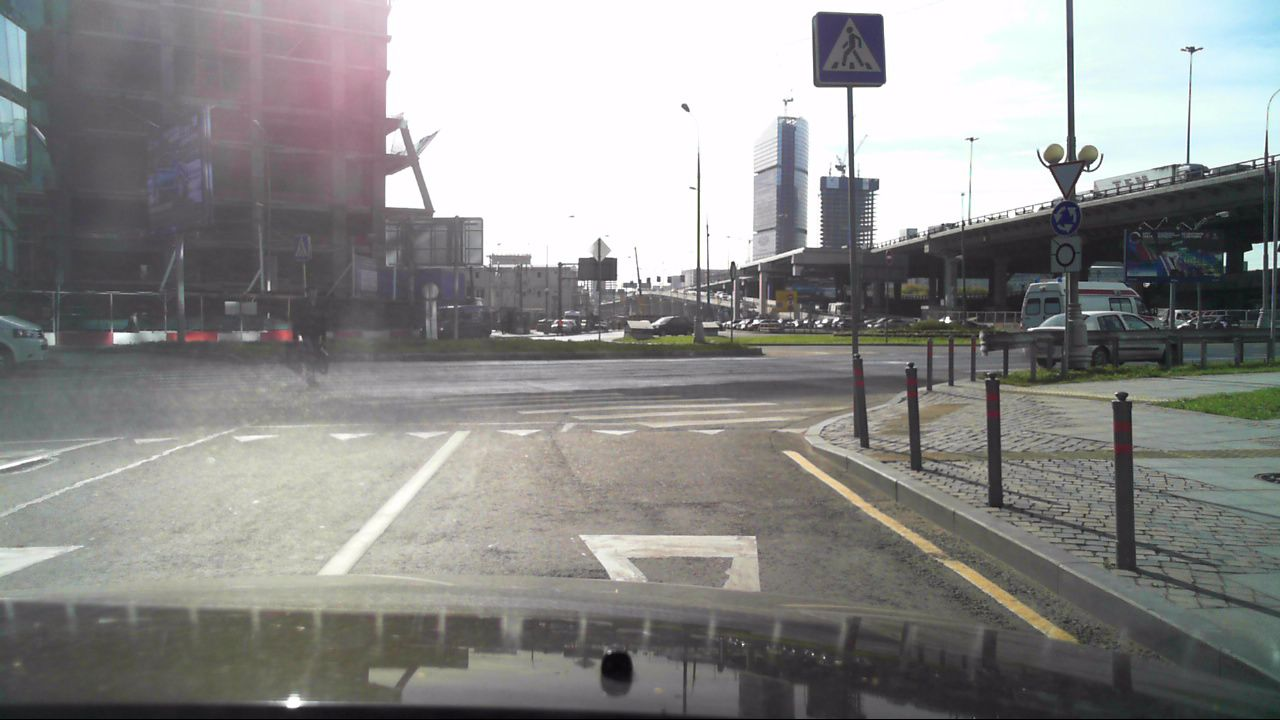Round-About: (1050, 199, 1081, 233)
